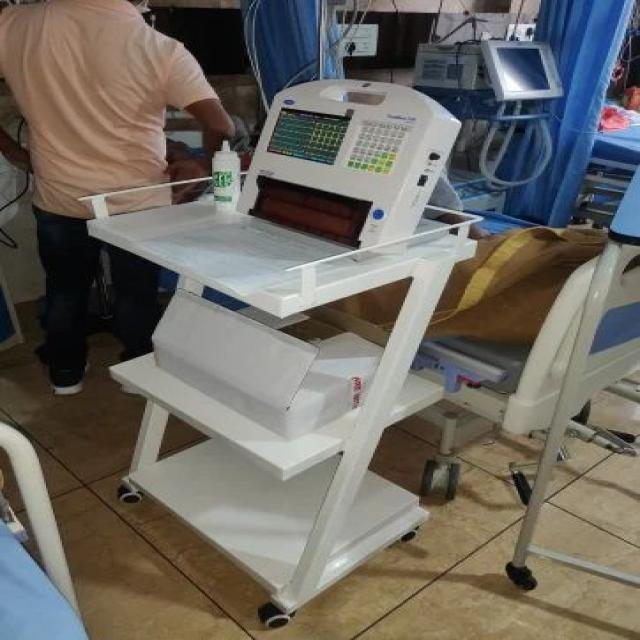Monitor: (81, 74, 504, 306), (468, 30, 572, 114)
